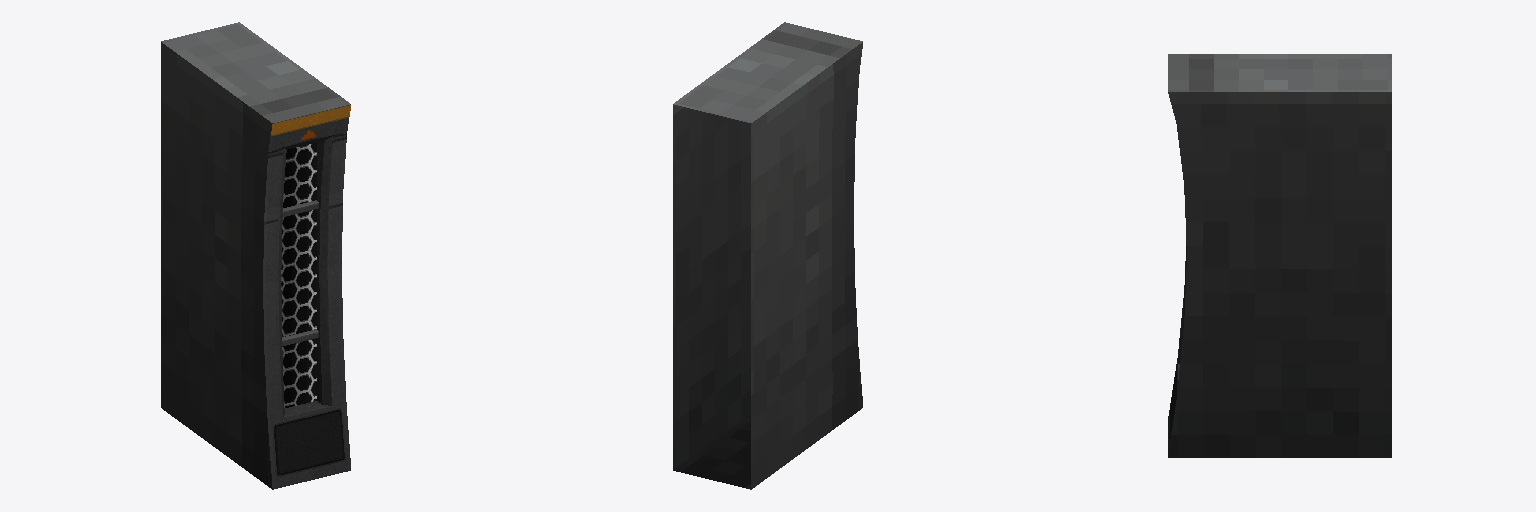
The picture shows the model from 3 angles: view 1: azimuth 30°, elevation 25°; view 2: azimuth 150°, elevation 25°; view 3: azimuth 270°, elevation 25°; orthographic projection.
Visible parts, largest first — view 1: default; view 2: default; view 3: default.
Part boxes in pixels (x1,y1,x2,y2): default: (161, 22, 350, 489); default: (673, 22, 862, 489); default: (1168, 54, 1391, 457).
Bounding box in the file's own units: 1.67 × 7.43 × 4.12.
Materials: 1 (1 with a texture image).